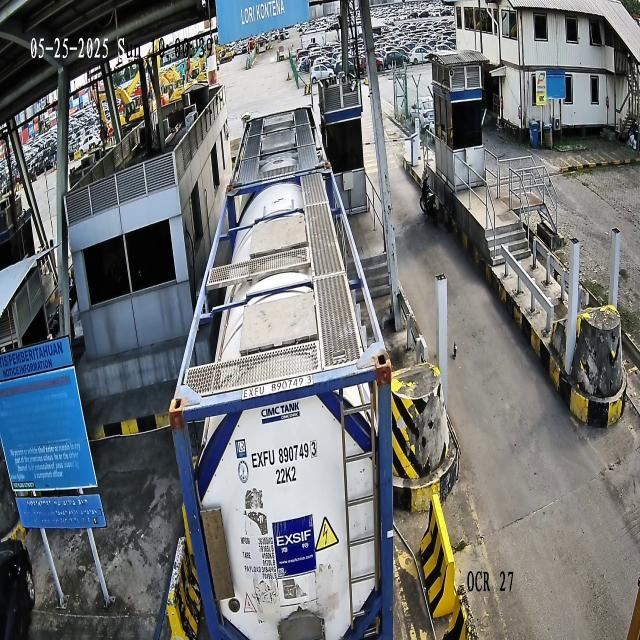ISO: (275, 467, 297, 485)
container_number: (251, 440, 318, 469)
